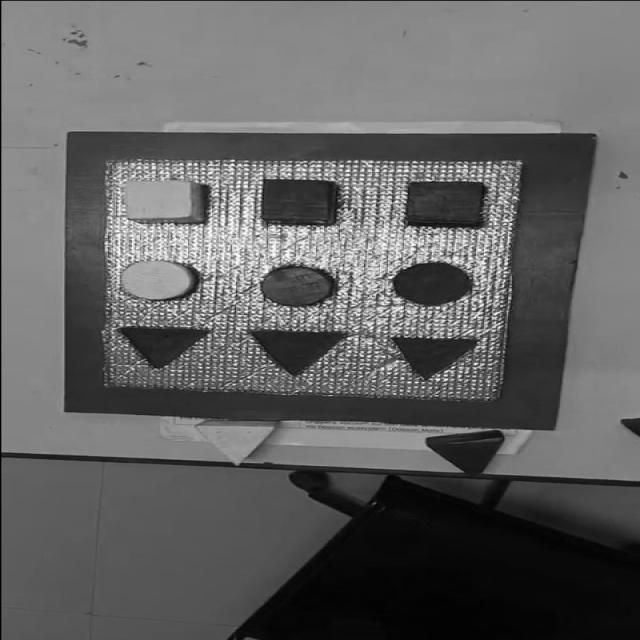bcube: (404, 181, 486, 228)
mtcircle: (390, 261, 474, 305)
mttriangle: (248, 328, 348, 376), (389, 334, 482, 380), (115, 326, 210, 369)
rcircle: (260, 266, 333, 306)
rcube: (260, 179, 336, 225)
rtriangle: (426, 430, 503, 475)
wb: (96, 158, 524, 403)
ycircle: (116, 258, 204, 303)
ycube: (121, 180, 207, 224)
ytriangle: (191, 418, 279, 466)
